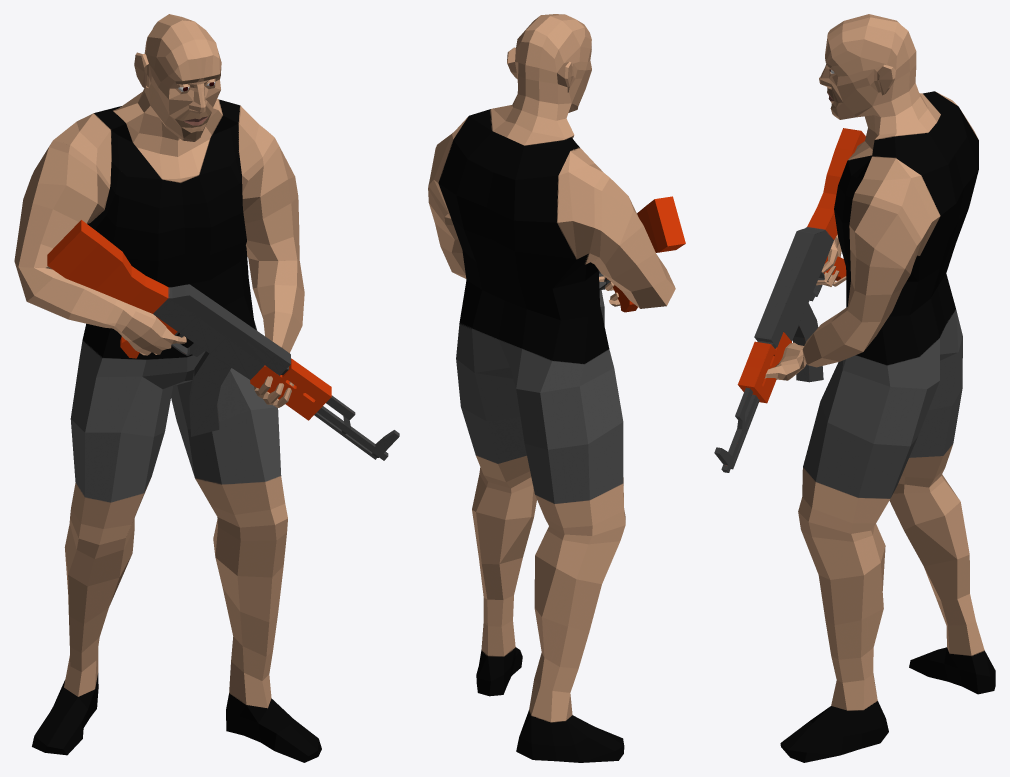
The model's file is PlayerIdle(71).obj.
3 views of the same model, side by side, from view 1: azimuth 30°, elevation 25°; view 2: azimuth 150°, elevation 25°; view 3: azimuth 270°, elevation 25° (orthographic). The views are drawn at different scales.
Visible parts, largest first — view 1: Plane002, Object001; view 2: Plane002, Object001; view 3: Plane002, Object001.
Part boxes in pixels (x1,y1,x2,y2): Plane002: (14, 14, 321, 762); Object001: (47, 220, 399, 460); Plane002: (428, 14, 675, 762); Object001: (598, 196, 685, 325); Plane002: (764, 14, 995, 762); Object001: (714, 128, 865, 472).
Bounding box in the file's own units: 728 × 1799 × 659.
